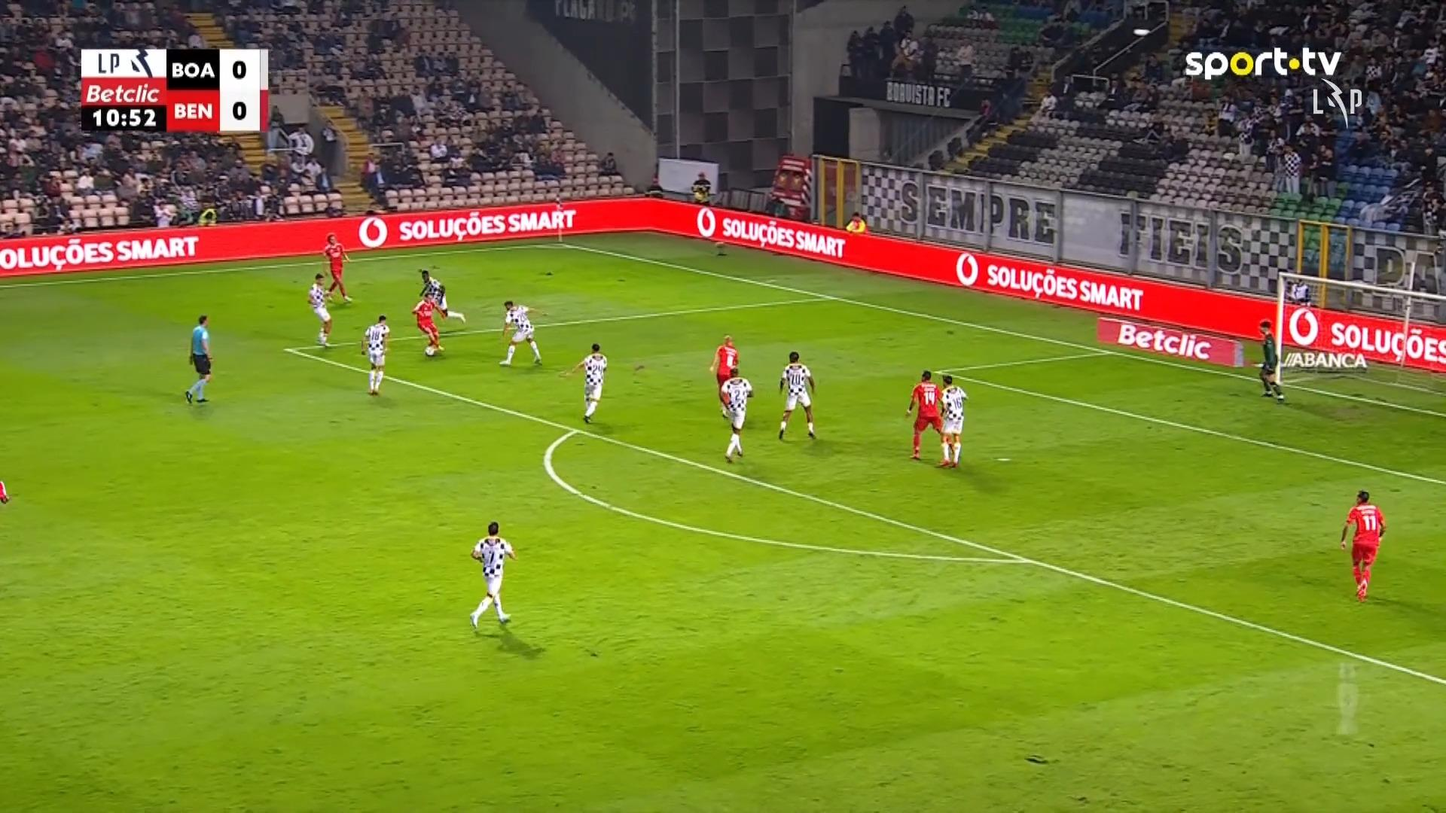ball: (425, 344, 443, 356)
goalkeeper: (1256, 318, 1284, 400)
player: (1338, 489, 1386, 601), (468, 521, 516, 629), (905, 369, 948, 461), (776, 350, 816, 440), (563, 343, 608, 423), (718, 366, 753, 463), (935, 373, 967, 468), (499, 300, 542, 367), (416, 268, 465, 324), (709, 334, 739, 418), (359, 314, 390, 395), (321, 232, 352, 303), (411, 294, 444, 356), (307, 273, 333, 346)
referee: (183, 314, 213, 405)
